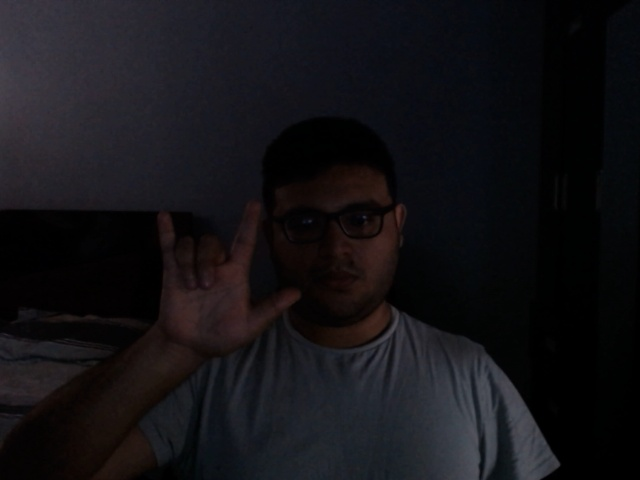I love you: (146, 200, 306, 369)
